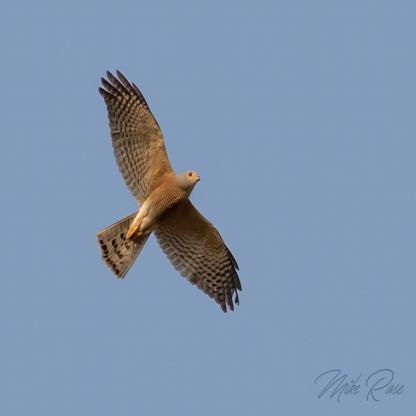Burung: (96, 69, 241, 313)
